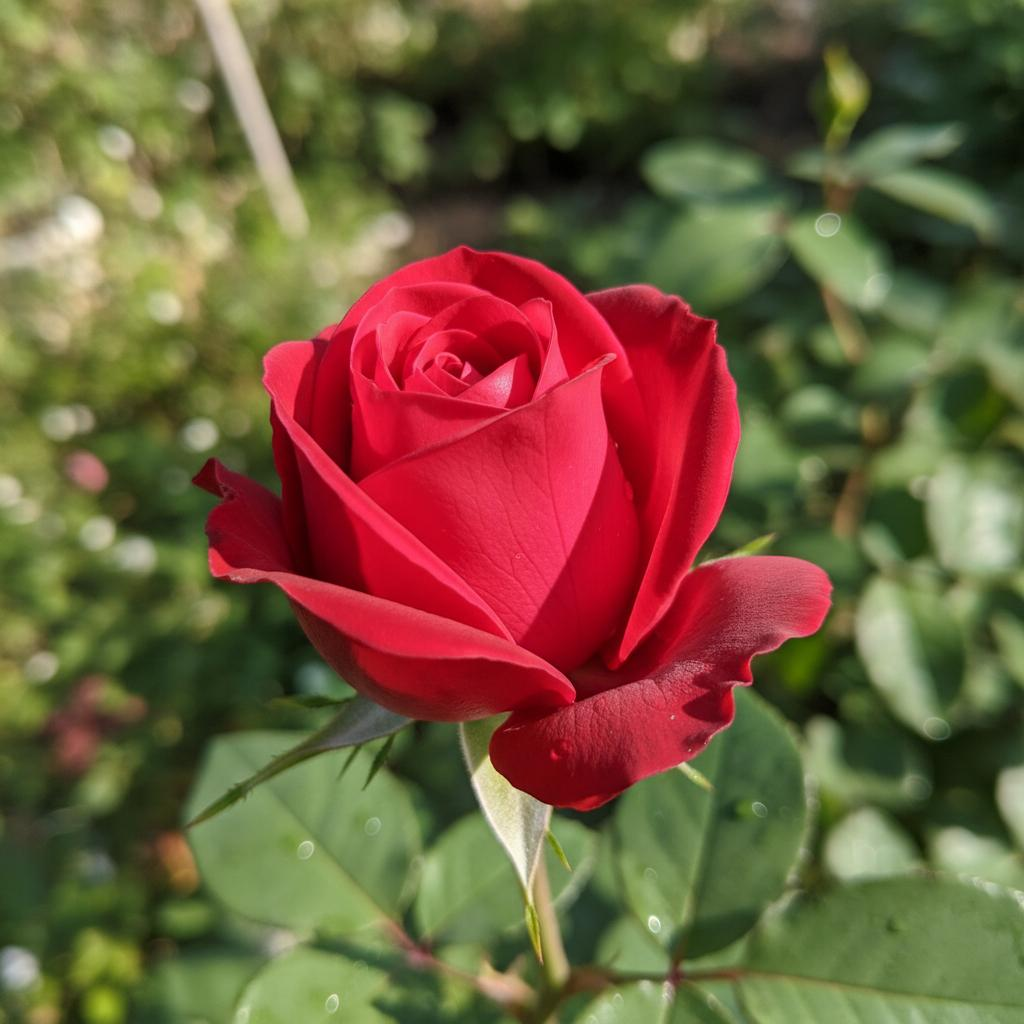rose: (190, 242, 834, 813)
